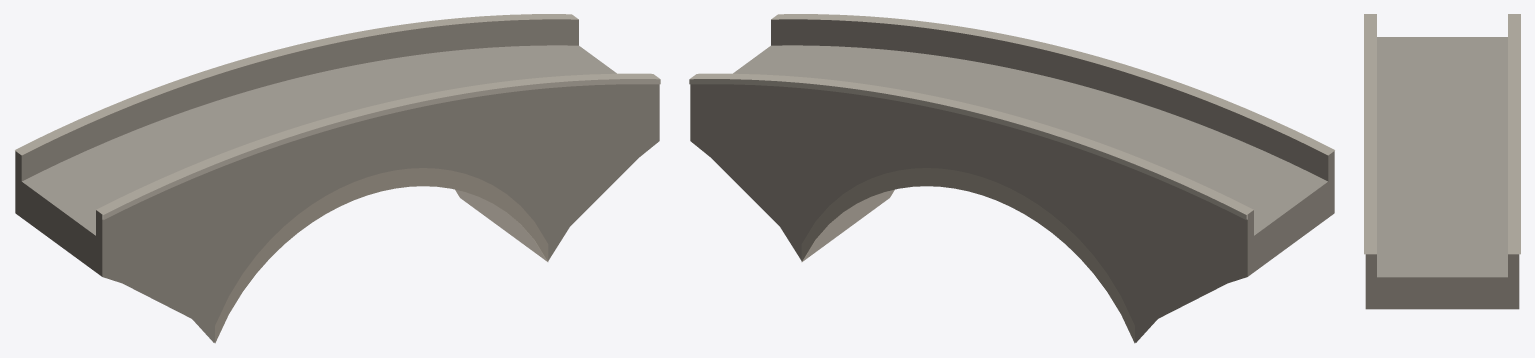
The model's file is nyc-gapstow-bridge.glb.
3 renders of one model, left to right at view 1: azimuth 30°, elevation 25°; view 2: azimuth 150°, elevation 25°; view 3: azimuth 270°, elevation 25°, orthographic. The views are drawn at different scales.
Visible parts, largest first — view 1: Gapstow Bridge; view 2: Gapstow Bridge; view 3: Gapstow Bridge.
Boxes of the visible parts, x1,y1,x2,y2 form: Gapstow Bridge: (15,14,660,343); Gapstow Bridge: (689,14,1334,343); Gapstow Bridge: (1364,14,1520,309).
Bounding box in the file's own units: 22.4 × 7.4 × 6.18.
